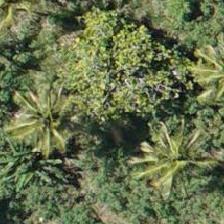coconut_tree: (126, 119, 216, 209), (2, 78, 92, 168)
